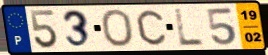3: (61, 8, 94, 50)
5: (205, 6, 239, 47), (28, 9, 60, 50)
C: (135, 8, 168, 47)
L: (173, 7, 207, 47)
O: (99, 8, 136, 49)
